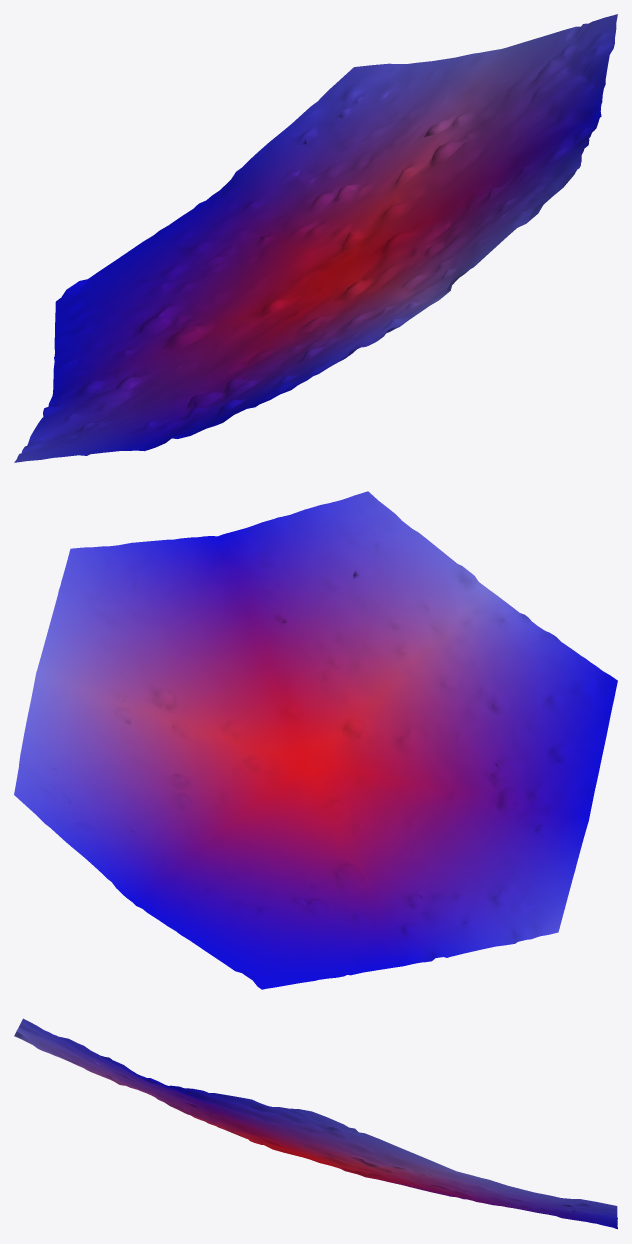
The model's file is Hex_18.fbx.
The picture shows the model from 3 angles, top to bottom: view 1: azimuth 30°, elevation 25°; view 2: azimuth 150°, elevation 25°; view 3: azimuth 270°, elevation 25°; orthographic projection. The views are drawn at different scales.
Visible parts, largest first — view 1: Hex_18; view 2: Hex_18; view 3: Hex_18.
Part boxes in pixels (left/top/right/bottom): Hex_18: left=14, top=14, right=617, bottom=462; Hex_18: left=14, top=491, right=617, bottom=989; Hex_18: left=14, top=1018, right=617, bottom=1229.
Bounding box in the file's own units: 456 × 239 × 436.
